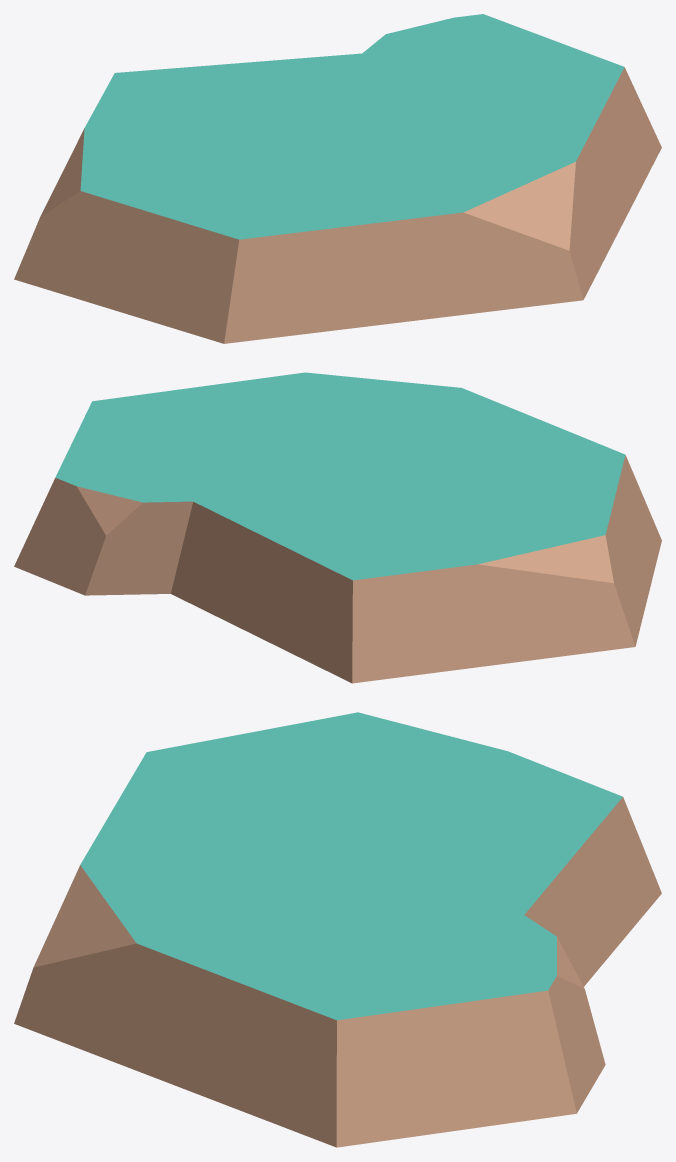
The model's file is rock_smallFlatC.glb.
3 renders of one model, top to bottom at view 1: azimuth 30°, elevation 25°; view 2: azimuth 150°, elevation 25°; view 3: azimuth 270°, elevation 25°, orthographic. The views are drawn at different scales.
Parts seen in each view (by area): view 1: rock_smallFlatC; view 2: rock_smallFlatC; view 3: rock_smallFlatC.
Boxes of the visible parts, x1,y1,x2,y2 form: rock_smallFlatC: [14, 14, 661, 343]; rock_smallFlatC: [14, 372, 661, 683]; rock_smallFlatC: [14, 712, 661, 1147].
Size of the model in its own units: 0.4704 by 0.0649 by 0.3603.
